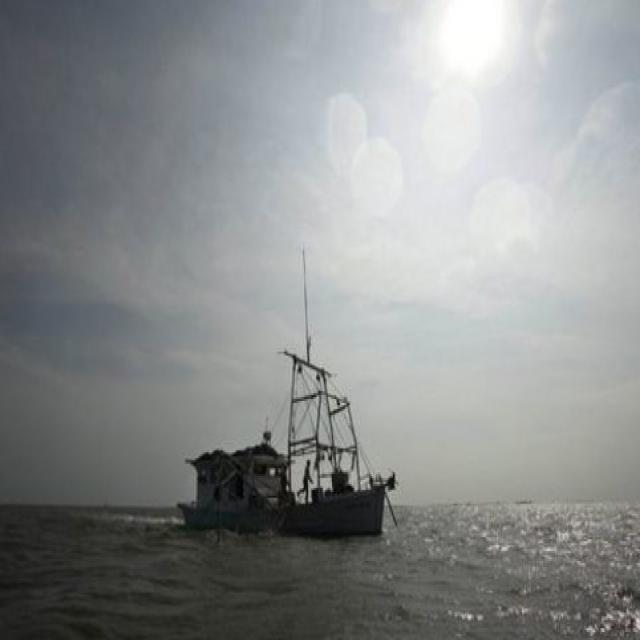fishing boat: (181, 258, 399, 536)
